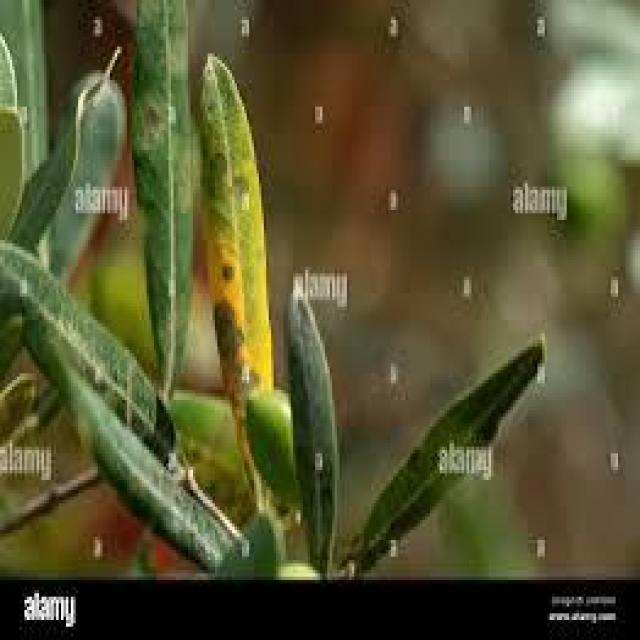Peacock Eye: (200, 53, 271, 397)
